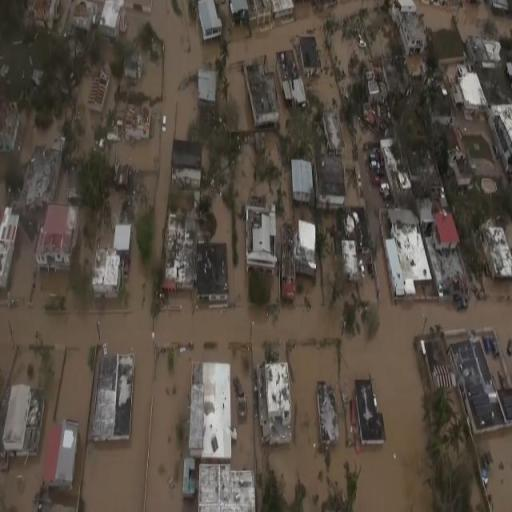flood: (0, 0, 511, 512), (420, 0, 512, 41), (482, 428, 512, 512)
house: (452, 338, 512, 432), (190, 358, 236, 464), (381, 209, 434, 296), (94, 350, 135, 438), (34, 202, 80, 268), (195, 465, 257, 512), (41, 419, 81, 491), (243, 56, 280, 125), (164, 212, 196, 291), (264, 362, 294, 444), (243, 205, 279, 273), (342, 206, 375, 280), (194, 242, 232, 304), (355, 375, 388, 445), (4, 382, 34, 450), (24, 146, 58, 204), (314, 154, 348, 208), (0, 206, 20, 288), (455, 70, 489, 118), (92, 246, 122, 300), (484, 226, 512, 282), (491, 104, 512, 176), (172, 140, 202, 190), (293, 220, 318, 278), (316, 382, 338, 446), (398, 12, 428, 58), (433, 28, 468, 66), (251, 0, 296, 26), (198, 0, 224, 41), (434, 210, 460, 250), (292, 158, 314, 203), (87, 70, 110, 112), (100, 0, 124, 40), (230, 0, 250, 24)
